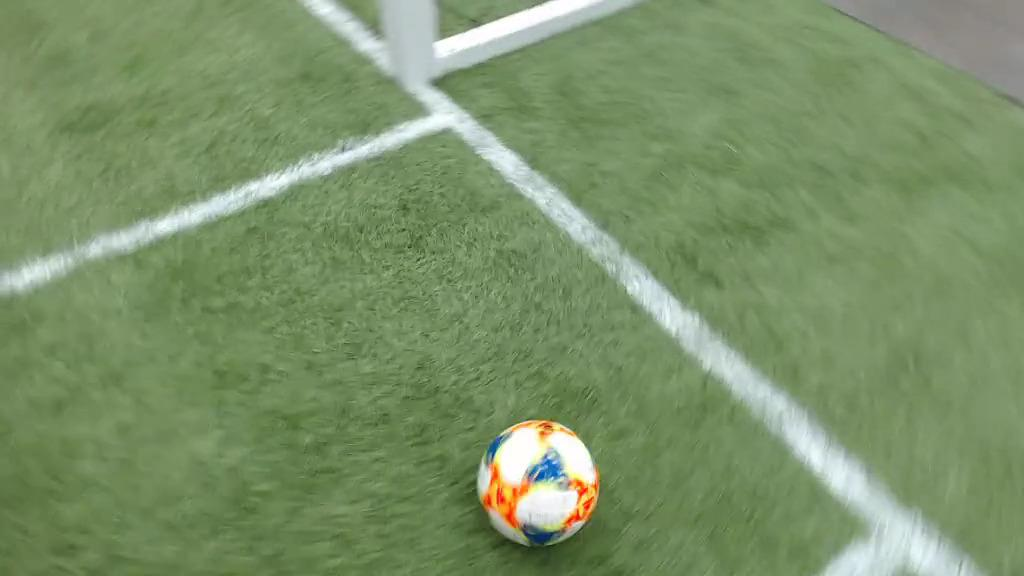ball: (476, 419, 598, 548)
